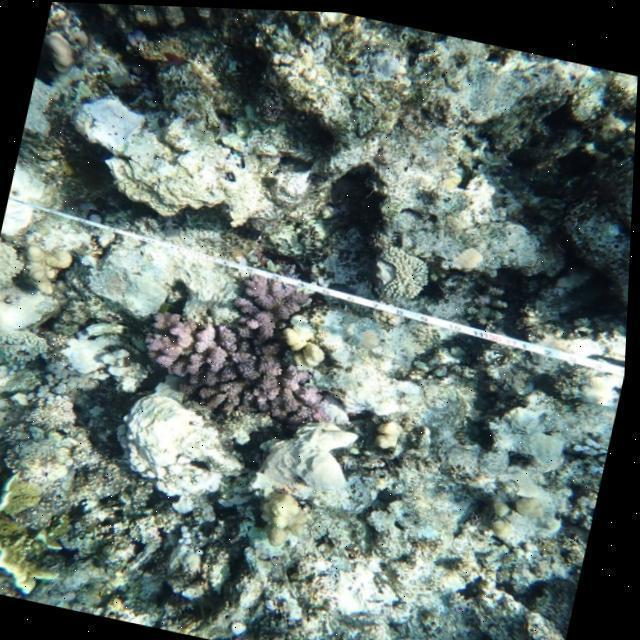Bleached Coral: (93, 370, 262, 515), (74, 227, 226, 335), (311, 309, 421, 426), (64, 79, 172, 167), (318, 542, 413, 616)
